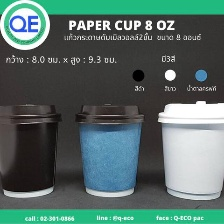paper_cup: (71, 96, 149, 202), (153, 96, 224, 207), (0, 95, 66, 201)
